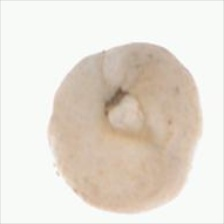L3: (102, 87, 153, 142)
L4: (48, 42, 205, 214)
